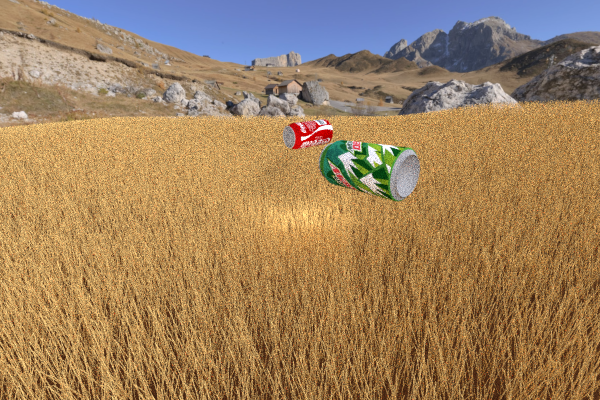bottle: (0, 160, 120, 282)
can: (318, 139, 419, 201), (282, 119, 333, 149)
